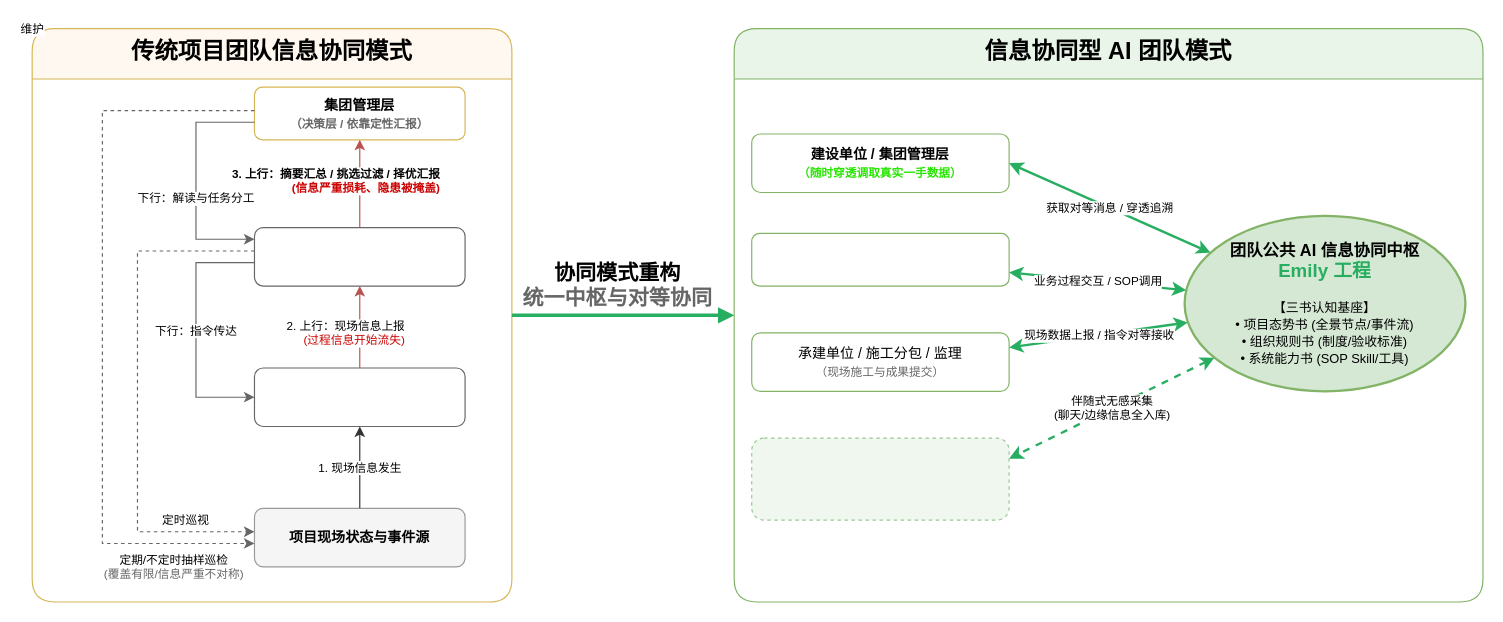
Some shapes in this 1503 by 622 pixel diagram are drawn without their labels. The centre of each missing label's shape, as x and y in pixels:
"一线现场与过程信息流 （自然语言IM/聊天/日志/隐性判断）" goes at point (880, 478).
"承建单位 （建筑 / 景观 / 精装等分包）" goes at point (359, 396).
"项目部 （工程 / 成本 / 设计条线）" goes at point (359, 256).
"项目部各业务条线 （工程 / 成本 / 设计）" goes at point (880, 259).
